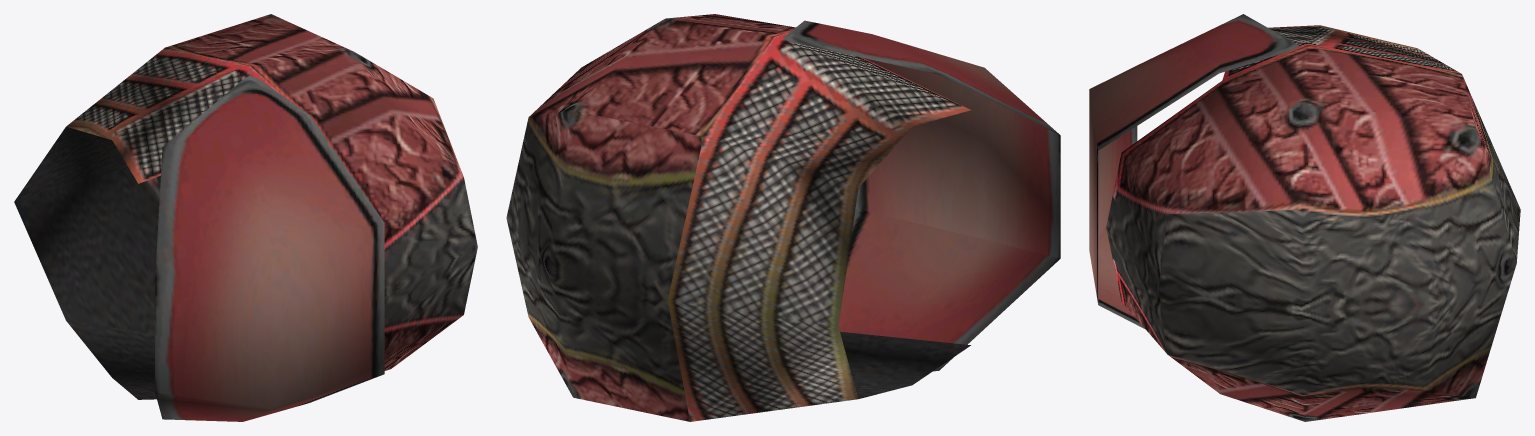
File: Helmet6__BOS.glb
3 views of the same model, side by side, from view 1: azimuth 30°, elevation 25°; view 2: azimuth 150°, elevation 25°; view 3: azimuth 270°, elevation 25° (orthographic). The views are drawn at different scales.
Visible parts, largest first — view 1: Helmet6; view 2: Helmet6; view 3: Helmet6.
Part boxes in pixels (box(x1,y1,x2,y2)): Helmet6: box(14, 14, 477, 421); Helmet6: box(506, 14, 1060, 421); Helmet6: box(1089, 14, 1520, 421).
Bounding box in the file's own units: 13.81 × 11.5 × 13.39.
1 material, 1 textured.
